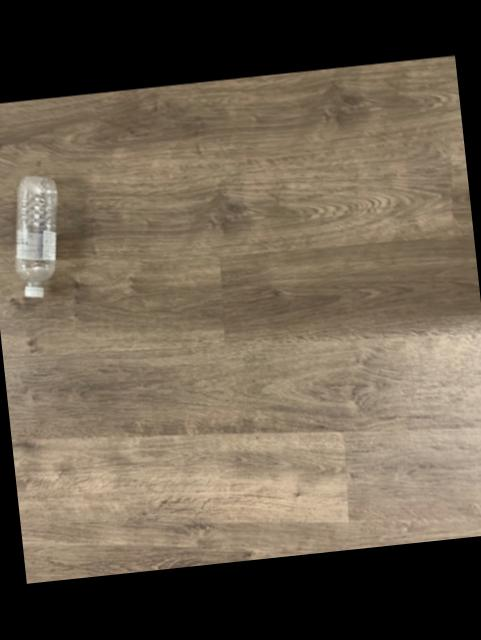plastic: (13, 176, 55, 296)
